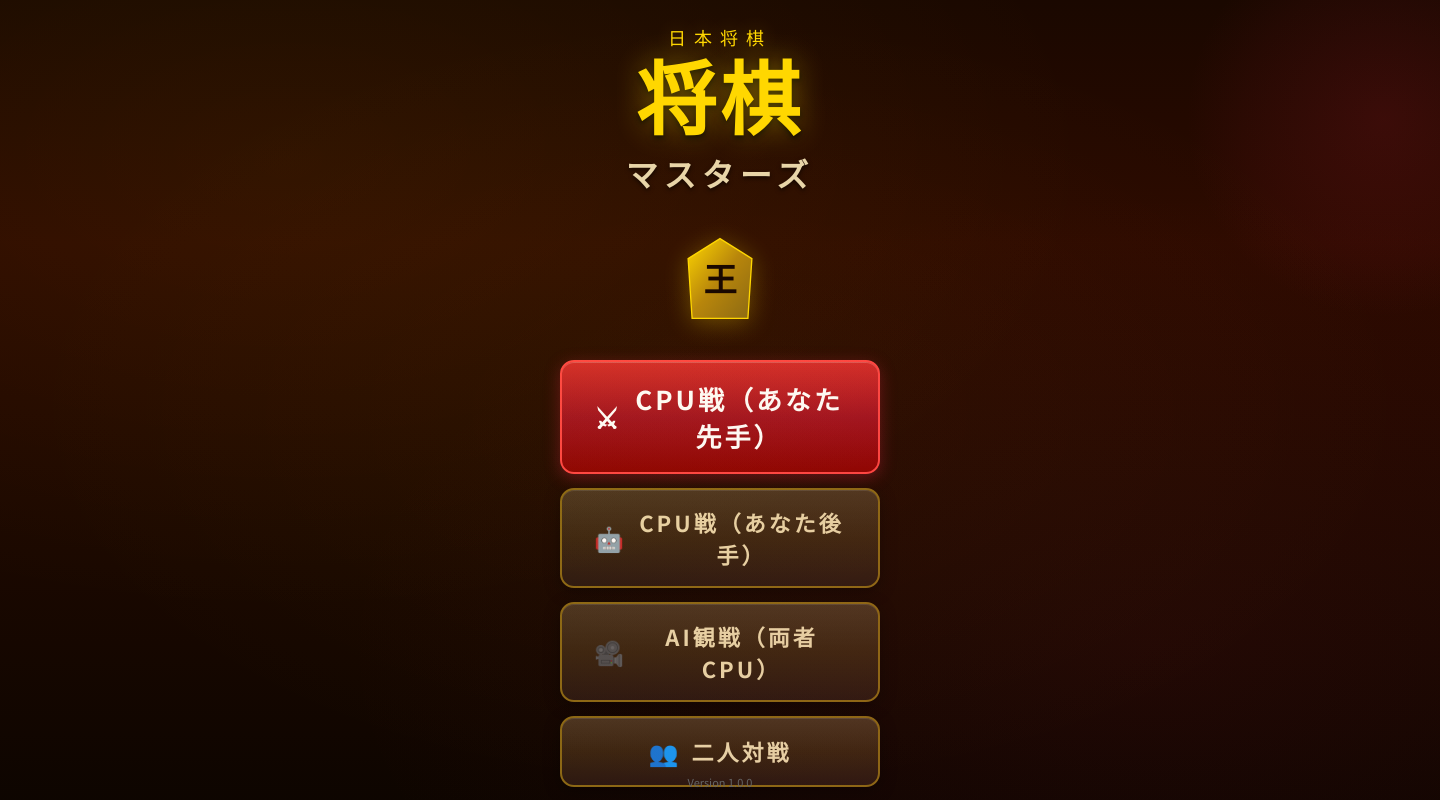
Test case: App › back button returns to menu
Click the button "⚔ CPU戦（あなた先手）" at coordinates (720, 416), box [560,360,880,474]
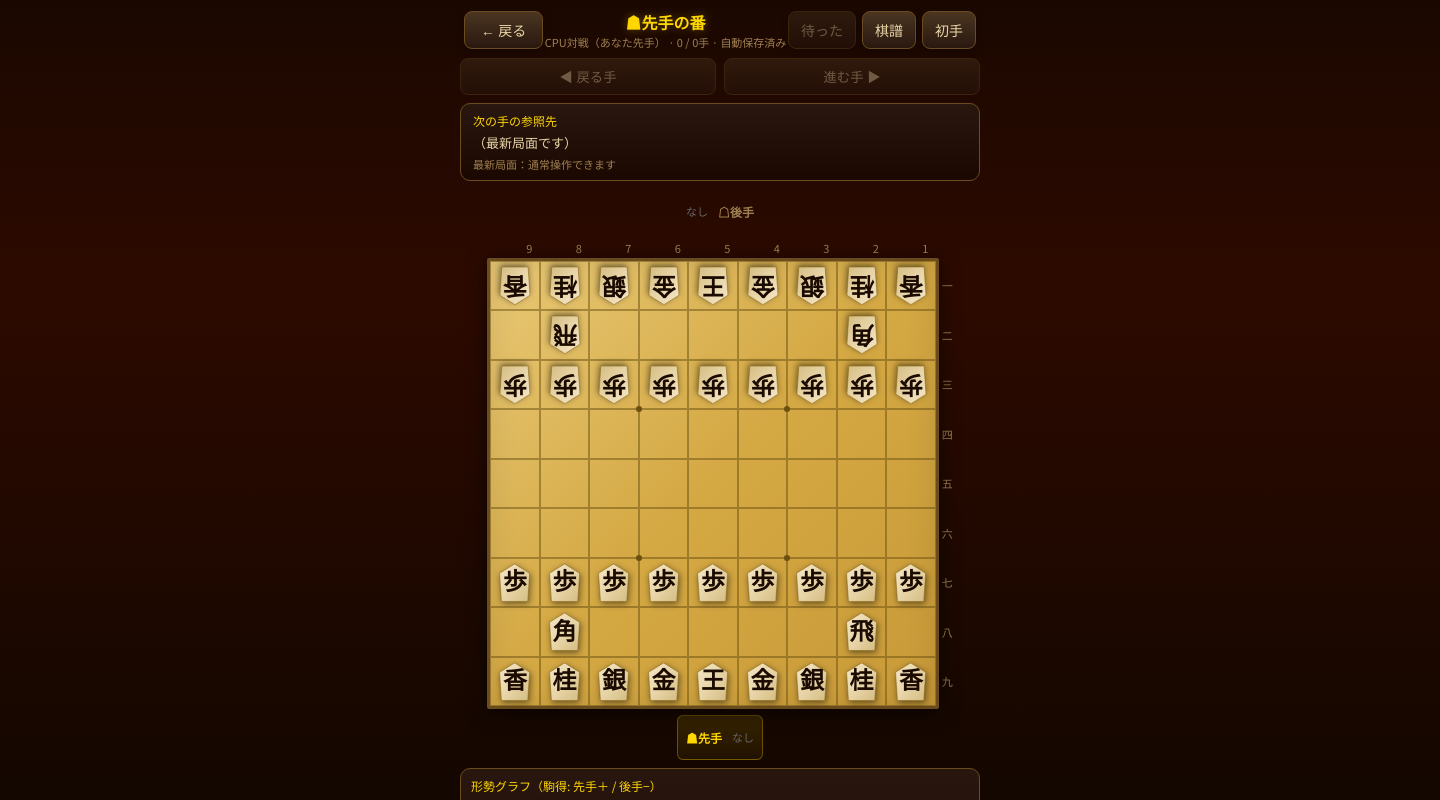
Click the button "← 戻る" at coordinates (504, 30), box [464,11,543,49]
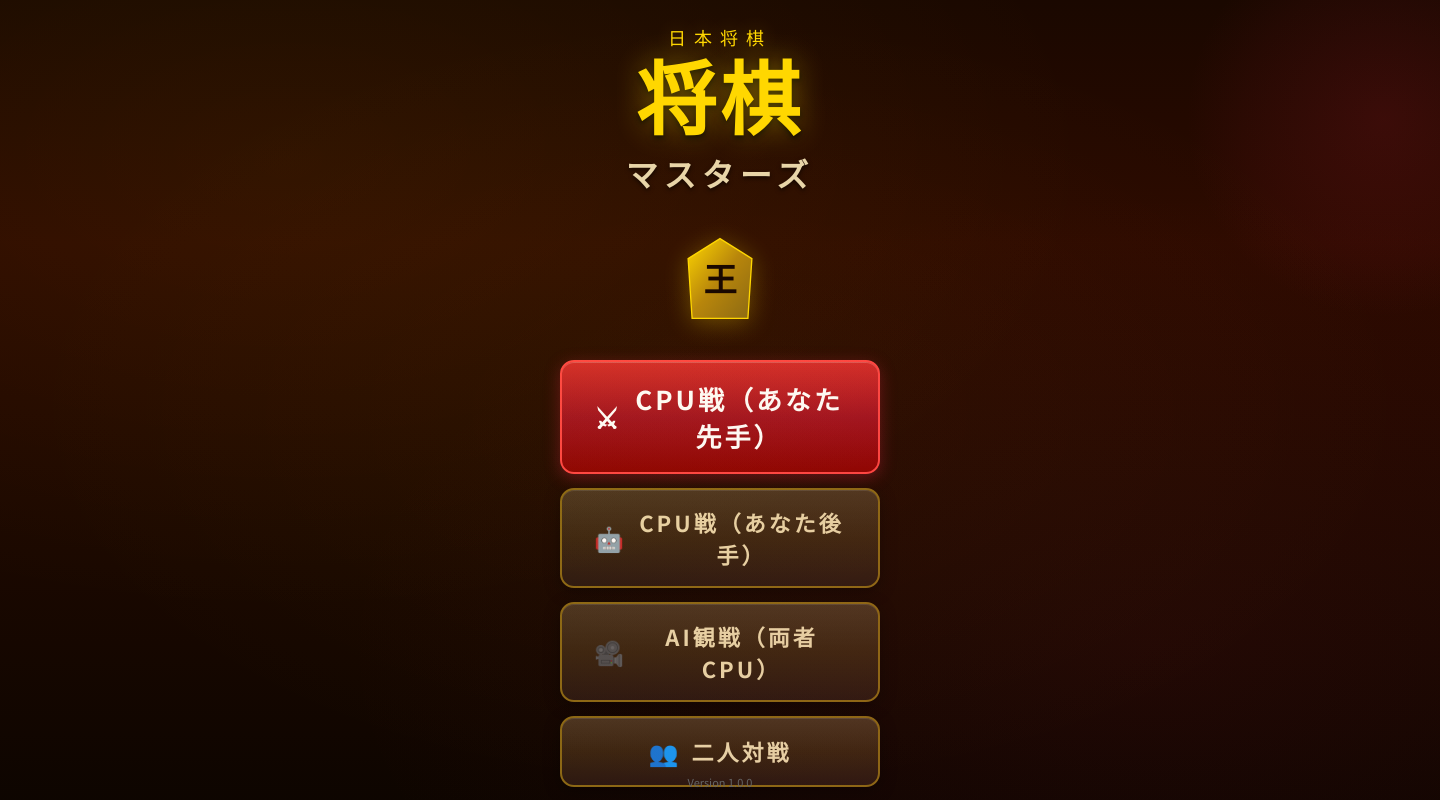
Check: the heading "将棋" is shown, box [626,58,814,146]
